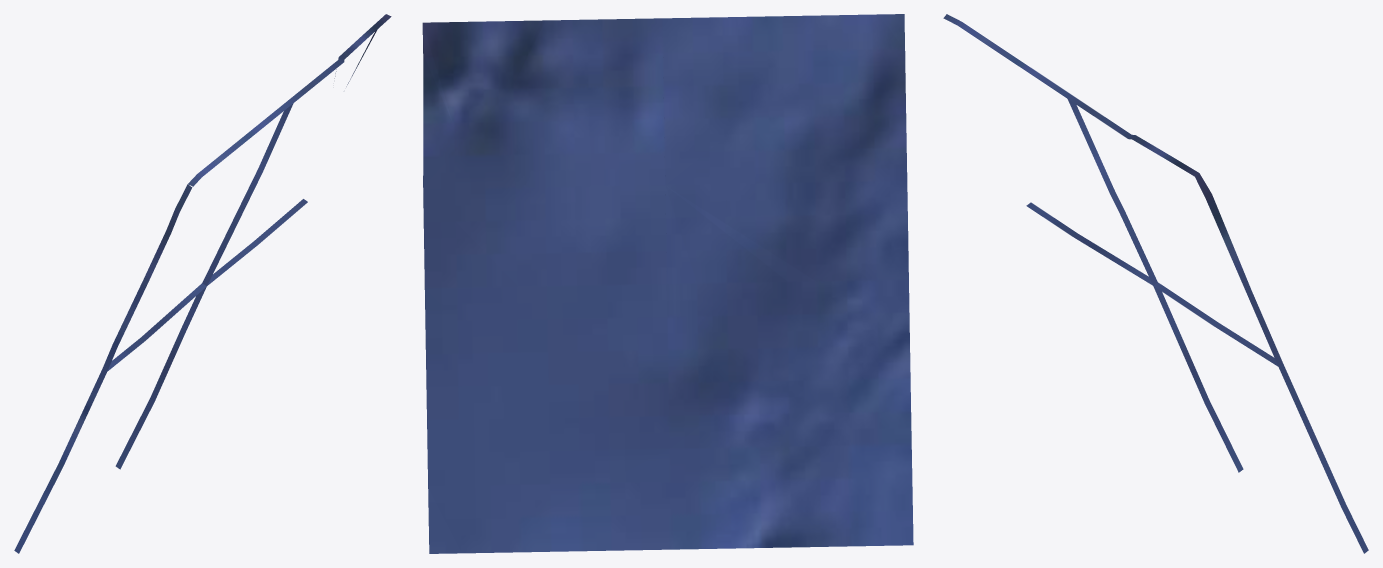
The picture shows the model from 3 angles, left to right: view 1: azimuth 30°, elevation 25°; view 2: azimuth 150°, elevation 25°; view 3: azimuth 270°, elevation 25°; orthographic projection. The views are drawn at different scales.
Size of the model in its own units: 19270 by 18198 by 16532.
Materials: 1 (1 with a texture image).
